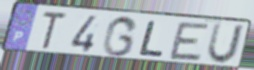4: (68, 14, 101, 54)
E: (167, 21, 212, 63)
G: (100, 15, 140, 59)
L: (137, 20, 165, 59)
T: (39, 10, 69, 51)
U: (205, 22, 248, 66)
